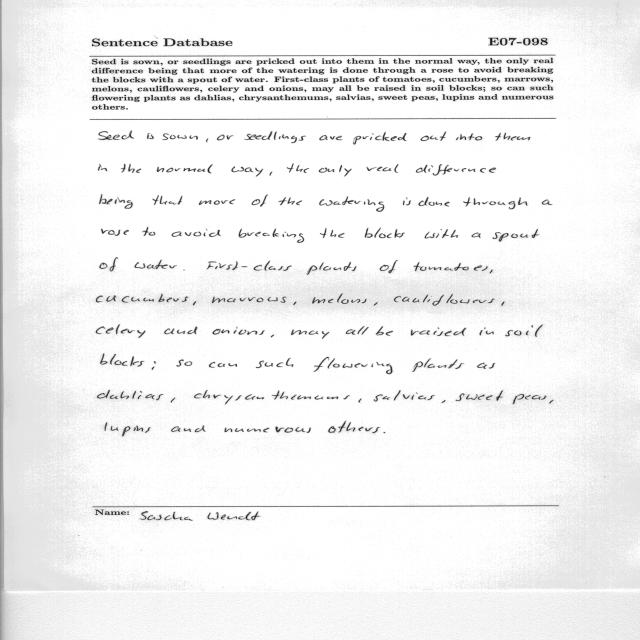word: (194, 390, 350, 404), (314, 357, 393, 374), (394, 294, 494, 306), (319, 196, 385, 212), (239, 228, 304, 243), (416, 164, 496, 176), (207, 261, 292, 271), (464, 197, 528, 209), (244, 131, 306, 143), (97, 294, 189, 302), (374, 390, 435, 402), (97, 390, 163, 401), (412, 358, 463, 372), (307, 262, 357, 275), (353, 133, 407, 145), (105, 422, 151, 436), (96, 325, 145, 338), (328, 421, 380, 433), (492, 229, 539, 242), (225, 426, 311, 433), (312, 293, 366, 304), (414, 263, 488, 271), (100, 354, 144, 367), (456, 390, 503, 401), (99, 194, 133, 209), (157, 165, 213, 174), (411, 327, 466, 336), (505, 324, 543, 337), (212, 297, 286, 303), (213, 327, 265, 335), (318, 165, 352, 177), (365, 228, 405, 238), (172, 229, 221, 237), (134, 260, 177, 269), (256, 358, 293, 368), (291, 330, 329, 339), (425, 229, 459, 239), (513, 394, 547, 404), (232, 167, 264, 177), (99, 131, 134, 140), (153, 195, 182, 205), (367, 164, 399, 173), (495, 133, 530, 141), (419, 197, 450, 206), (164, 327, 197, 335), (162, 133, 198, 140), (100, 258, 118, 272), (421, 131, 446, 141), (320, 228, 345, 238), (380, 260, 398, 273), (252, 194, 269, 207), (287, 163, 309, 173), (199, 199, 235, 205), (171, 426, 206, 432), (346, 326, 369, 335), (101, 229, 129, 236), (278, 197, 302, 205), (456, 134, 482, 141), (121, 164, 141, 173), (376, 326, 393, 336), (209, 362, 237, 368), (143, 227, 156, 236), (320, 135, 343, 140), (480, 328, 494, 336), (477, 363, 495, 369), (177, 360, 192, 367), (217, 135, 233, 141), (403, 198, 411, 206), (99, 164, 108, 171), (542, 200, 553, 205), (472, 233, 481, 238), (147, 133, 154, 139), (152, 361, 156, 370), (171, 398, 175, 403), (550, 400, 554, 404), (193, 301, 196, 306), (502, 301, 505, 306), (270, 172, 273, 176), (490, 270, 493, 274), (374, 302, 377, 306), (359, 399, 362, 403), (442, 400, 446, 403), (294, 302, 297, 305), (271, 335, 274, 338), (206, 139, 208, 143), (384, 432, 386, 433), (184, 270, 185, 270)
